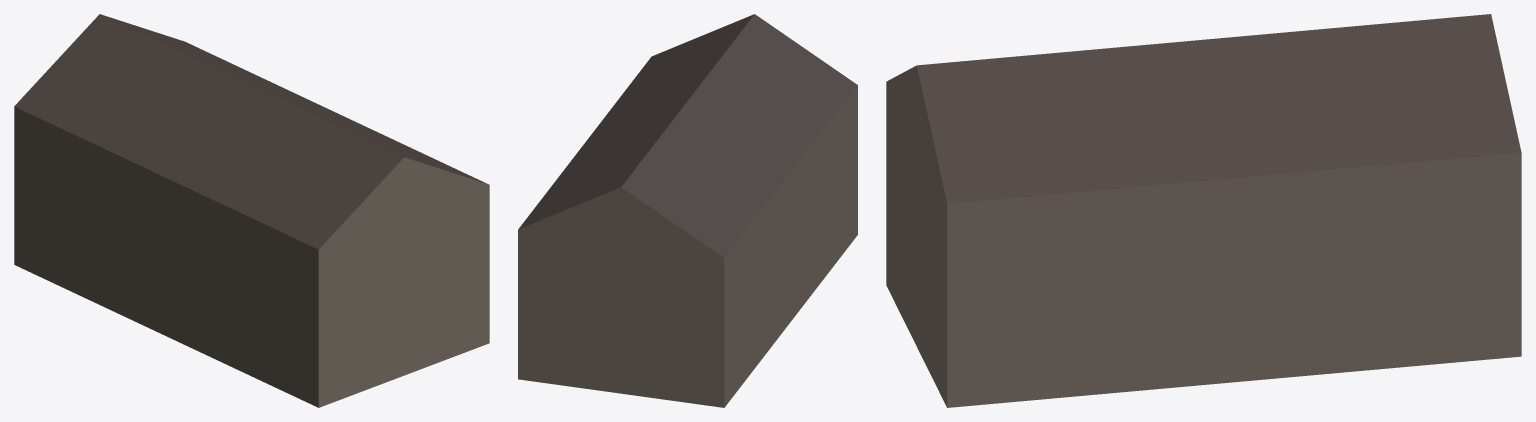
The picture shows the model from 3 angles, left to right: view 1: azimuth 30°, elevation 25°; view 2: azimuth 150°, elevation 25°; view 3: azimuth 270°, elevation 25°; orthographic projection. The views are drawn at different scales.
Visible parts, largest first — view 1: HP-w1199439517; view 2: HP-w1199439517; view 3: HP-w1199439517.
Part boxes in pixels (x1,y1,x2,y2): HP-w1199439517: [14, 14, 489, 407]; HP-w1199439517: [518, 14, 857, 407]; HP-w1199439517: [886, 14, 1521, 407].
Bounding box in the file's own units: 16.44 × 12.41 × 25.39.
